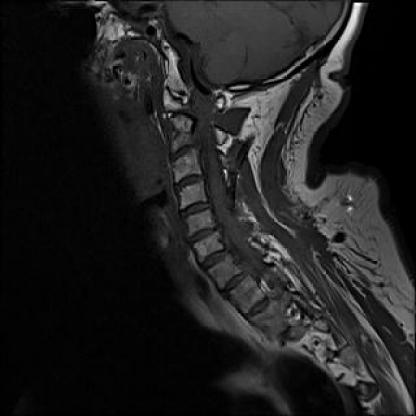Disc Protrusionrotation: (185, 227, 222, 244), (195, 251, 231, 268), (178, 201, 211, 217), (171, 175, 206, 190)
Osteophytesrotation: (185, 227, 222, 244), (171, 174, 206, 190)
